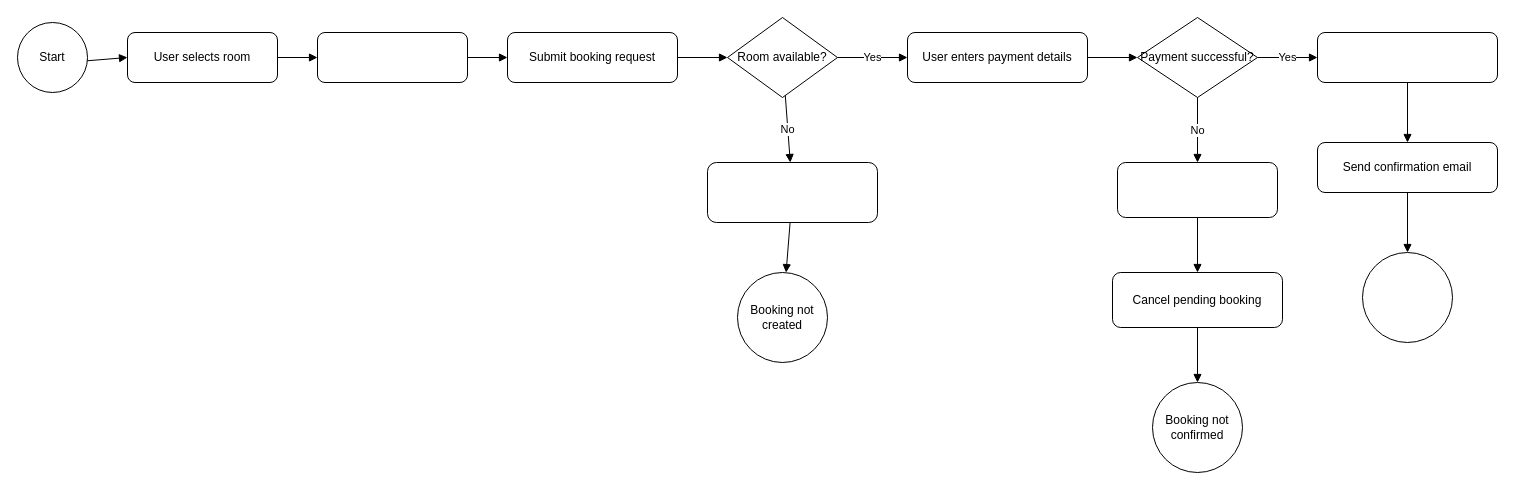
Some shapes in this 1515 by 490 pixel diagram are drawn without their labels. The centre of each missing label's shape, as x and y in pixels:
Booking confirmed: the point at 1407,297
Create confirmed booking: the point at 1407,57
Show payment error: the point at 1197,190
Show room unavailable message: the point at 792,192
User enters dates: the point at 392,57
